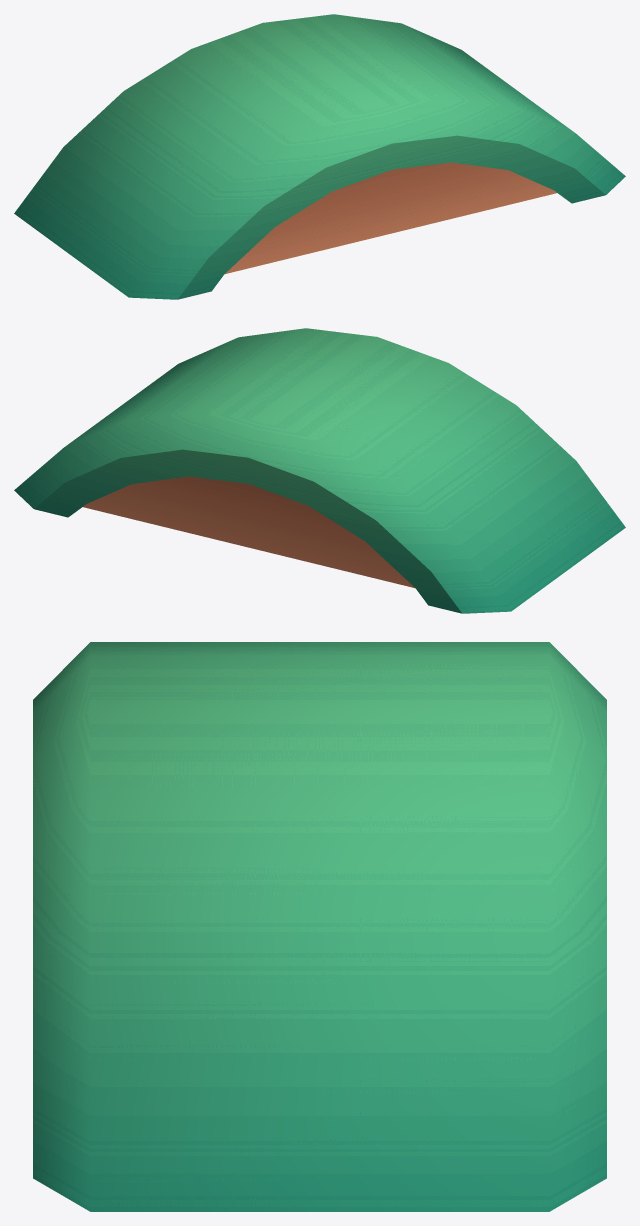
Rendered from block-grass-curve-low.glb.
The picture shows the model from 3 angles, top to bottom: view 1: azimuth 30°, elevation 25°; view 2: azimuth 150°, elevation 25°; view 3: azimuth 270°, elevation 25°; orthographic projection. The views are drawn at different scales.
Parts seen in each view (by area): view 1: block-grass-curve-low; view 2: block-grass-curve-low; view 3: block-grass-curve-low.
Boxes of the visible parts, bbox=[...] form: block-grass-curve-low: bbox=[14, 14, 625, 299]; block-grass-curve-low: bbox=[14, 328, 625, 613]; block-grass-curve-low: bbox=[33, 642, 606, 1211].
Size of the model in its own units: 2 by 0.5 by 1.
Materials: 1 (1 with a texture image).
